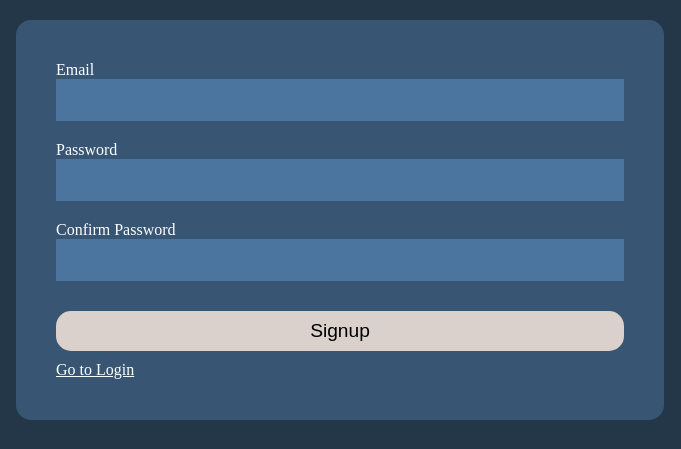
Signup page tests › Test signup with not equal passwords
Type "asd@asd.cl" into the field with test id "signup-email-input".
click(340, 100); type("asd@asd.cl")  # box [56,78,624,120]
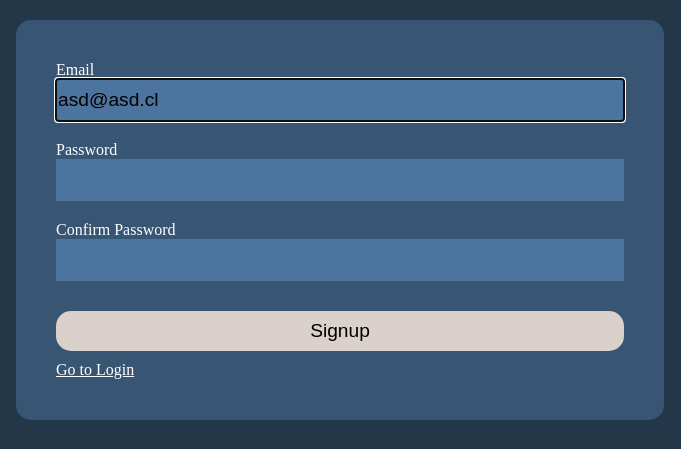
Type "123456" into the password field with test id "signup-password-input".
click(340, 180); type("123456")  # box [56,158,624,200]
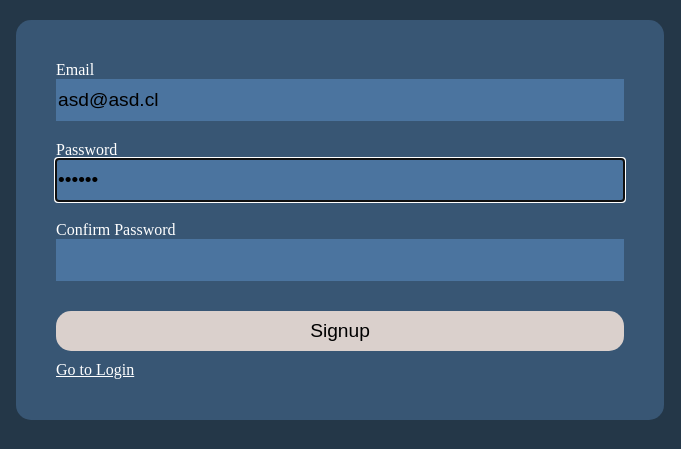
Type "12345678" into the password field with test id "signup-passwordConfirm-input".
click(340, 260); type("12345678")  # box [56,238,624,280]
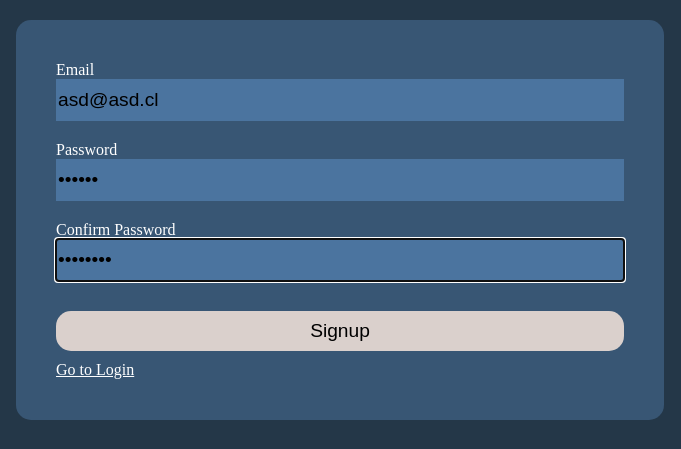
Click the button with test id "signup-submit".
click(340, 330)  # box [56,310,624,350]
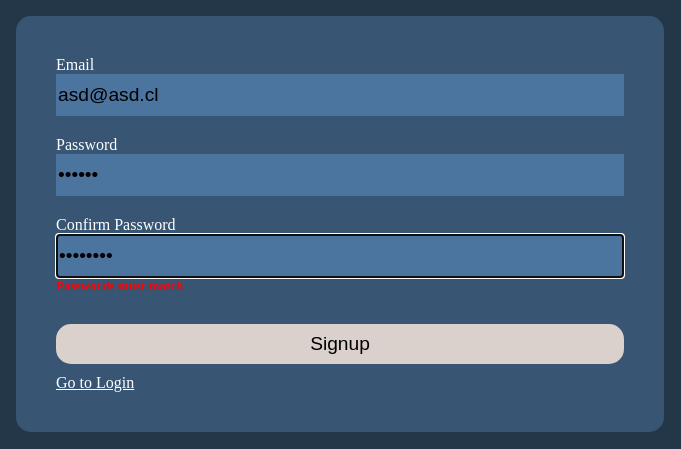
Check: the text "Passwords must match" is shown, box [56,278,183,292]
